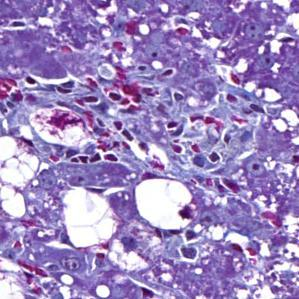ballooning: (61, 187, 121, 250), (134, 178, 199, 233), (2, 134, 43, 221), (29, 106, 92, 154)
